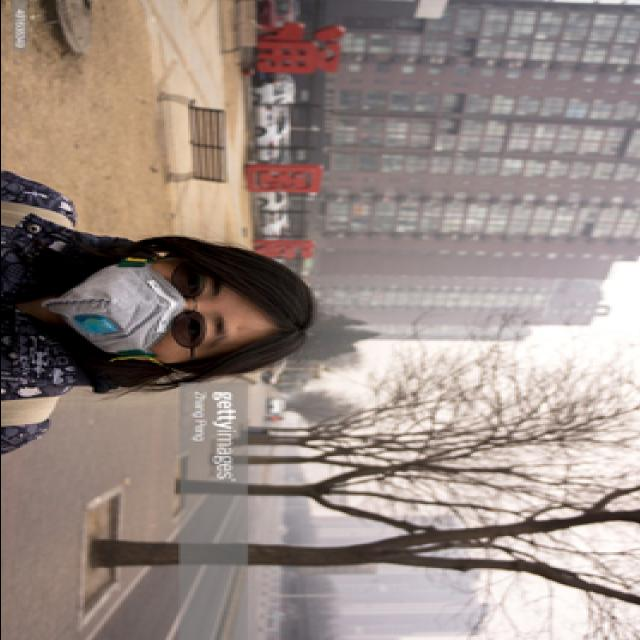with_mask: (48, 256, 235, 362)
